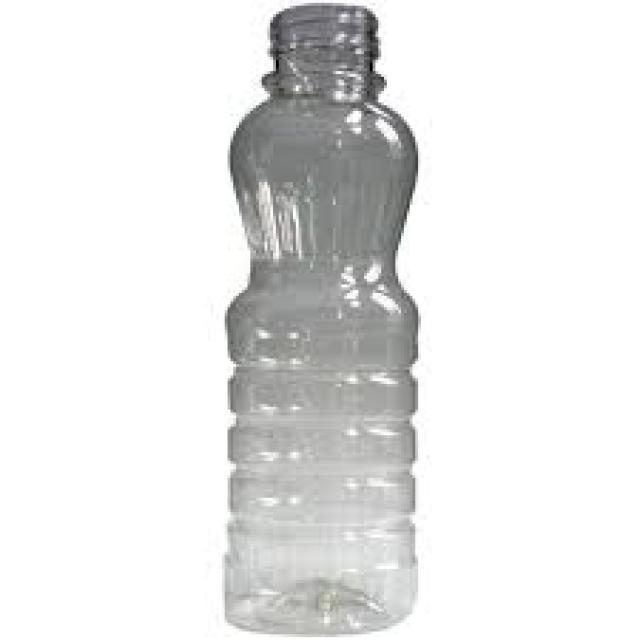bottle: (144, 0, 492, 638)
